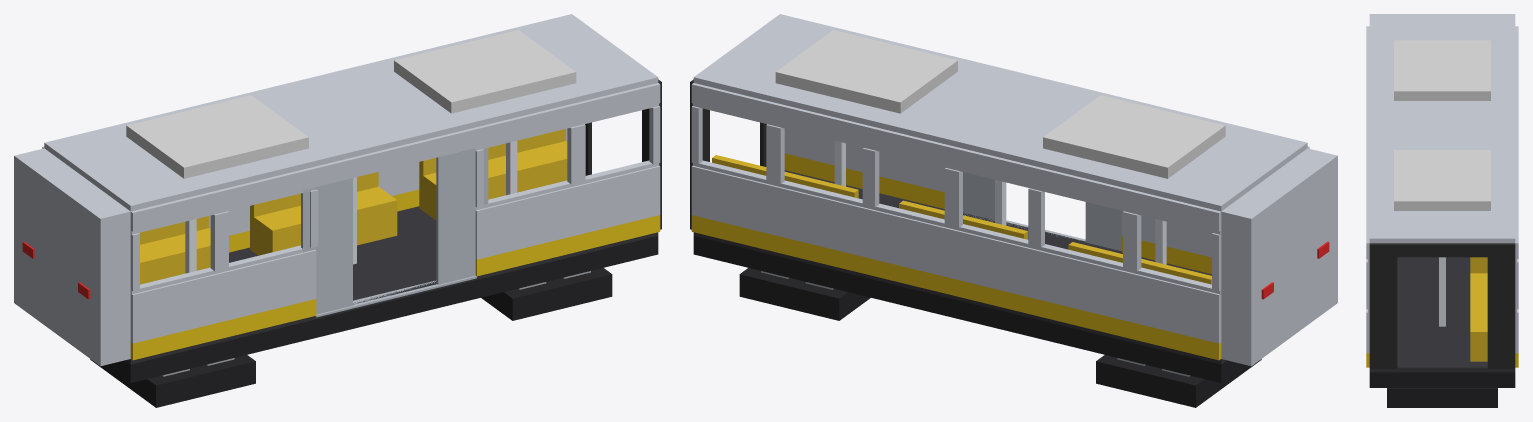
Rendered from metro_wagon_rear_half_l4.obj.
3 renders of one model, left to right at view 1: azimuth 30°, elevation 25°; view 2: azimuth 150°, elevation 25°; view 3: azimuth 270°, elevation 25°, orthographic. The views are drawn at different scales.
Bounding box in the file's own units: 3.16 × 1.26 × 0.88.
